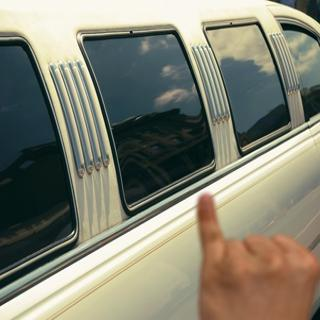FINE: (190, 190, 320, 320)
